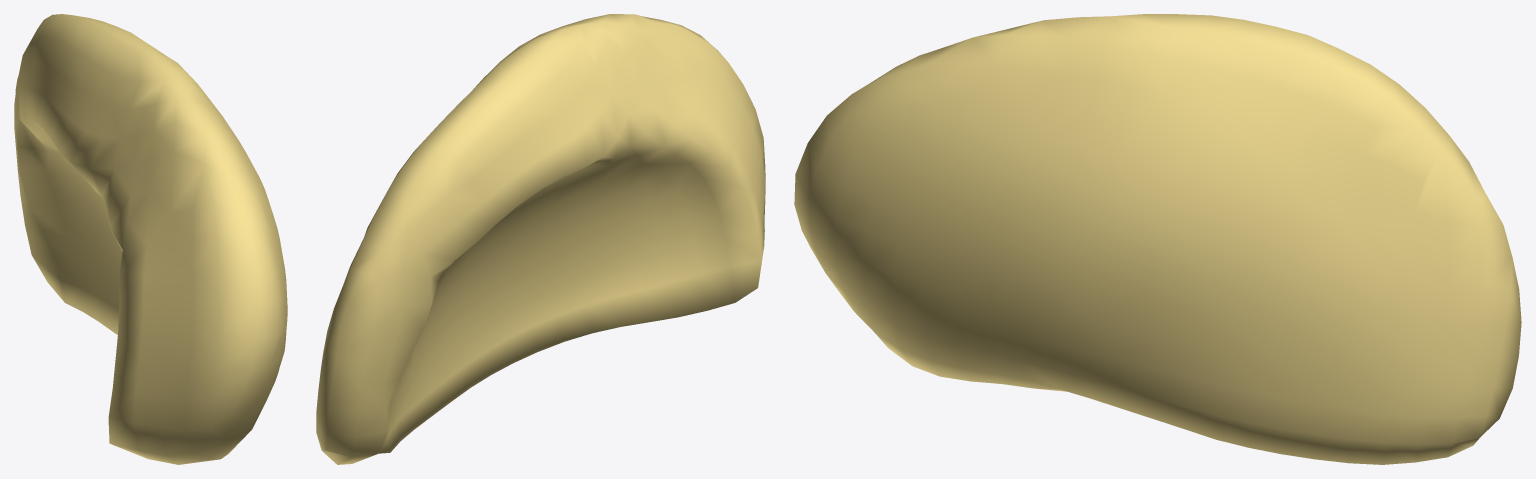
The picture shows the model from 3 angles, left to right: view 1: azimuth 30°, elevation 25°; view 2: azimuth 150°, elevation 25°; view 3: azimuth 270°, elevation 25°; orthographic projection. The views are drawn at different scales.
Visible parts, largest first — view 1: ZA_01fa6f25ca97e556; view 2: ZA_01fa6f25ca97e556; view 3: ZA_01fa6f25ca97e556.
Boxes of the visible parts, <box> form: ZA_01fa6f25ca97e556: <box>14,14,287,464</box>; ZA_01fa6f25ca97e556: <box>316,14,765,464</box>; ZA_01fa6f25ca97e556: <box>794,14,1521,464</box>.
Bounding box in the file's own units: 0.0177 × 0.0252 × 0.0416.
